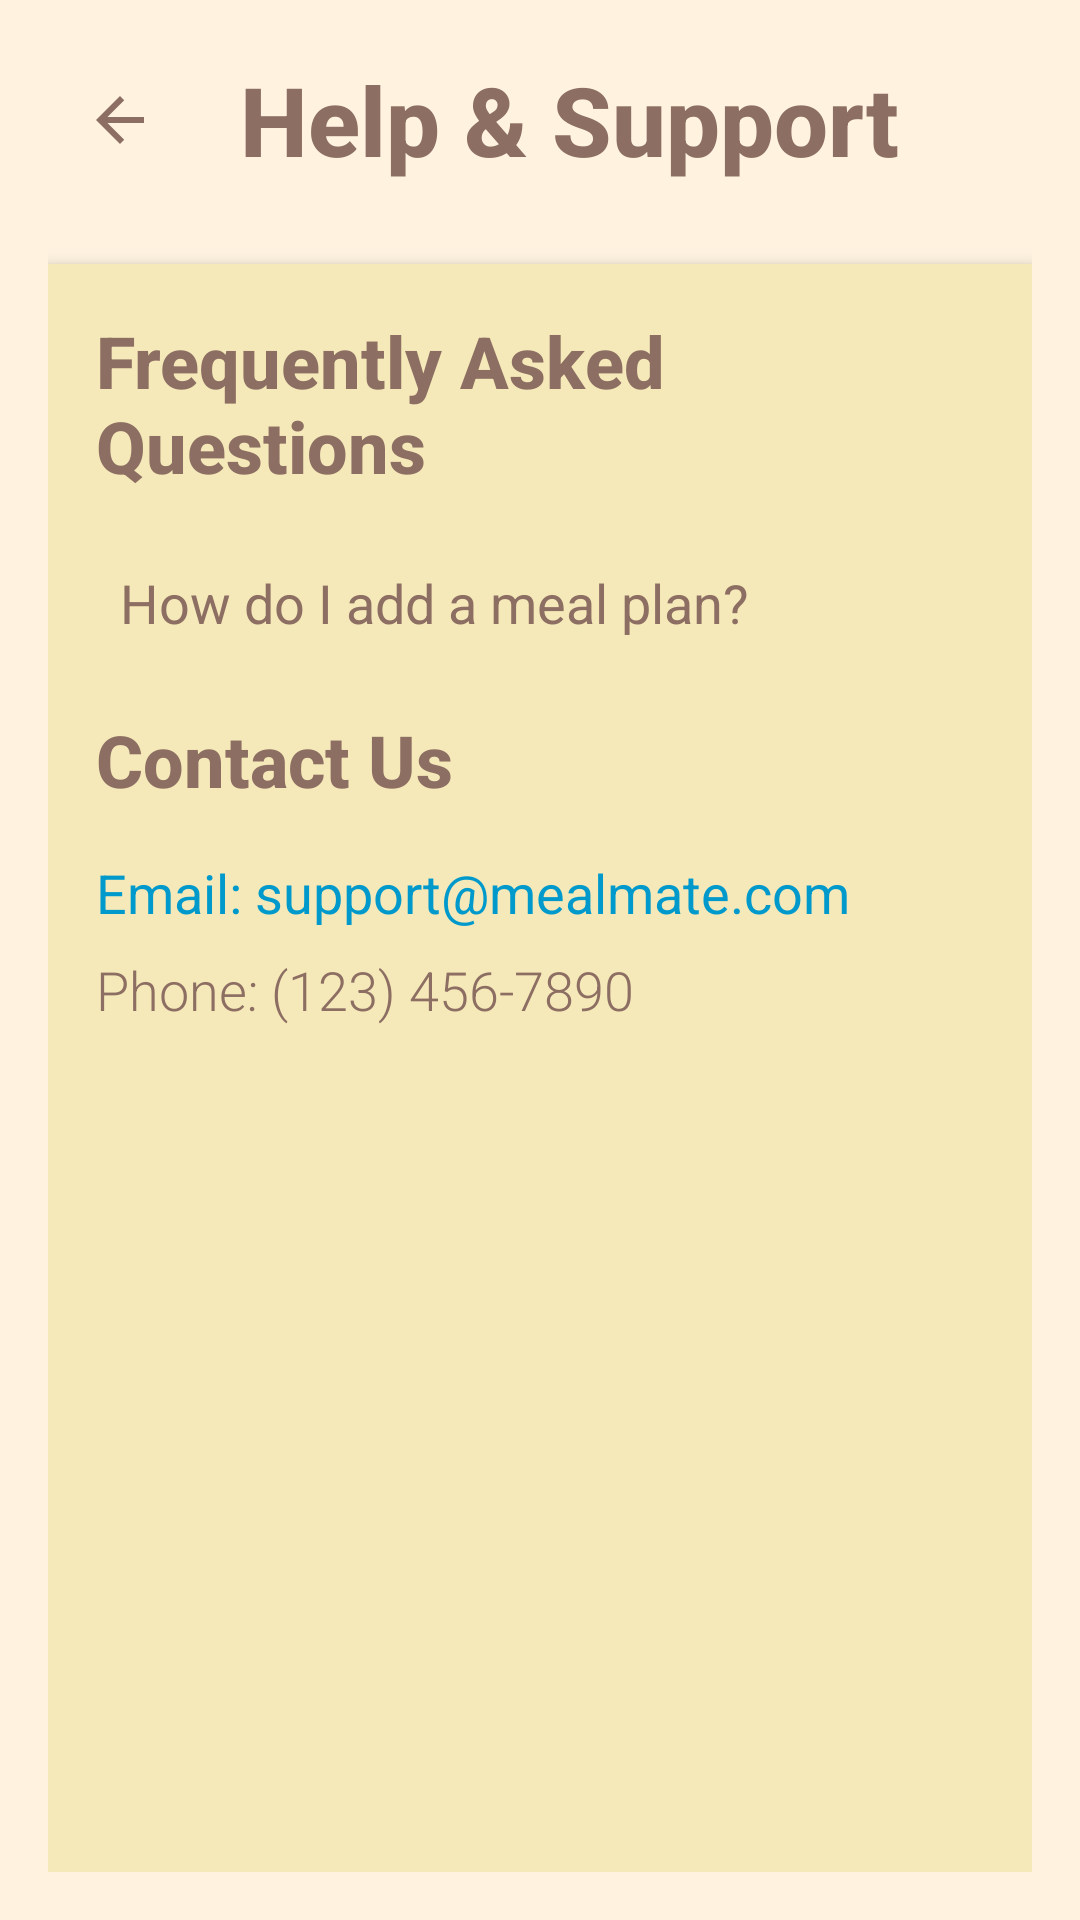

Screen size 1080 x 1920. Icon name, then its box in pixels as (x1, y1, x2, y2):
Back to Home: (96, 96, 144, 144)
